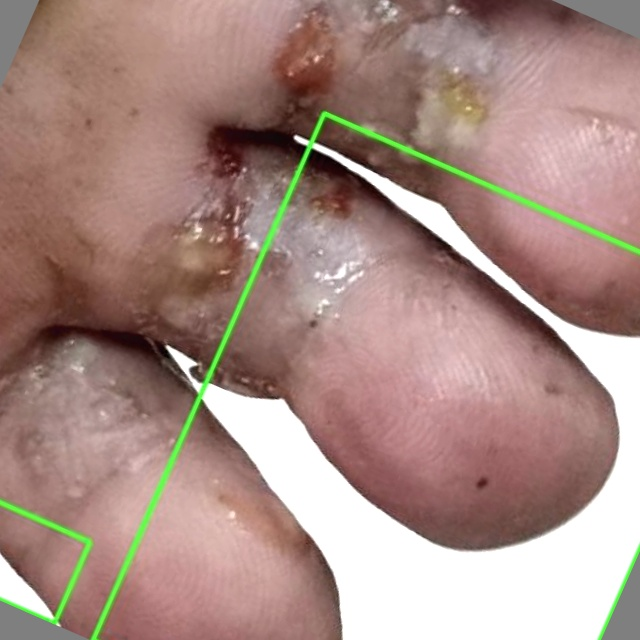Scabies: (93, 113, 639, 639)
